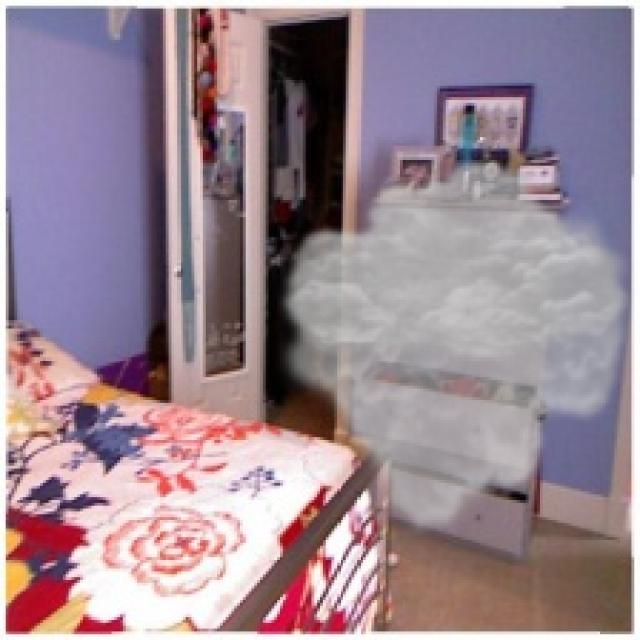smoke: (272, 154, 637, 540)
